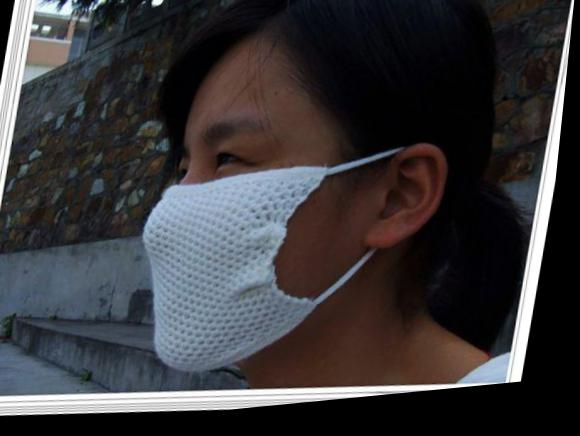WRONG: (127, 81, 358, 391)
